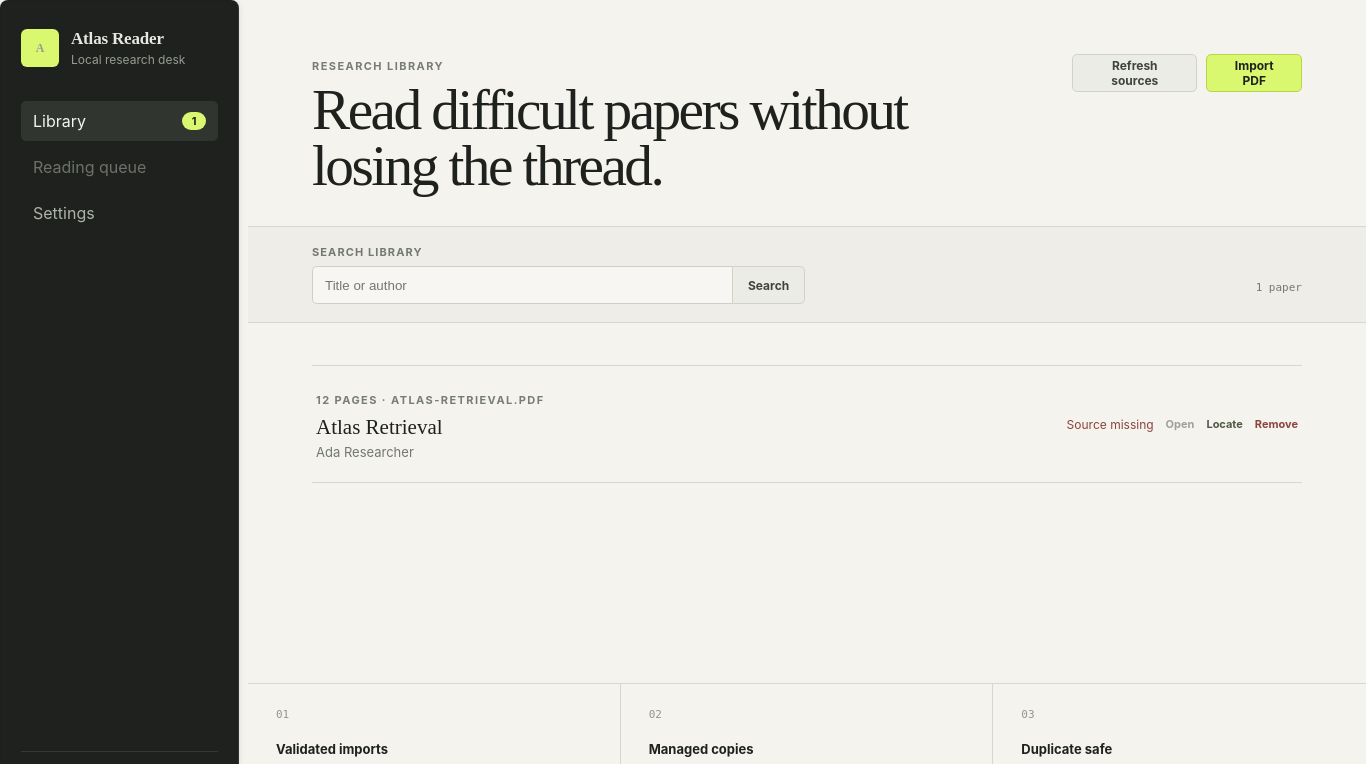
Test: App › relocates a missing source after verifying the selected PDF
Expected: the text "Source missing" is shown, 1067,417 -> 1154,432
Click the button "Locate": (1225, 424) 1206,412 -> 1243,436
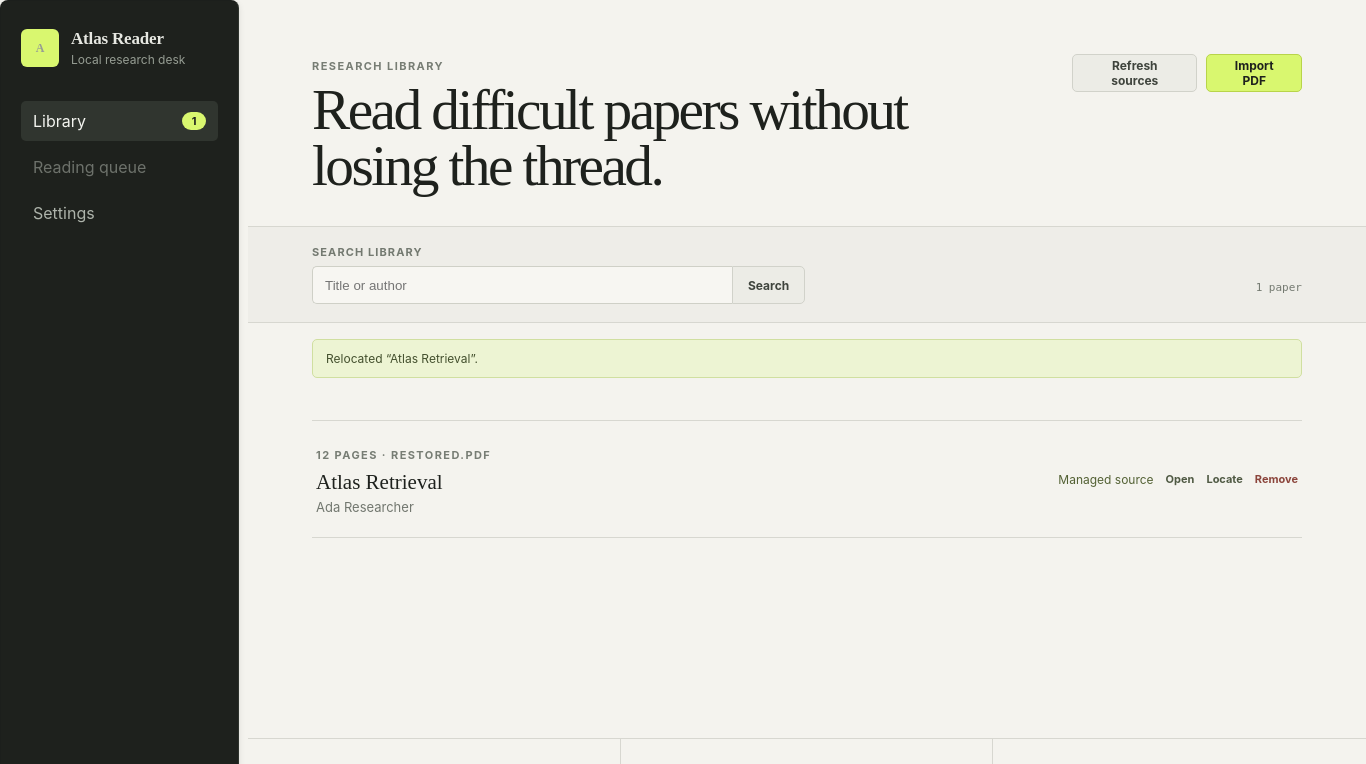
Expected: the text "12 pages · restored.pdf" is shown, 316,448 -> 491,462
